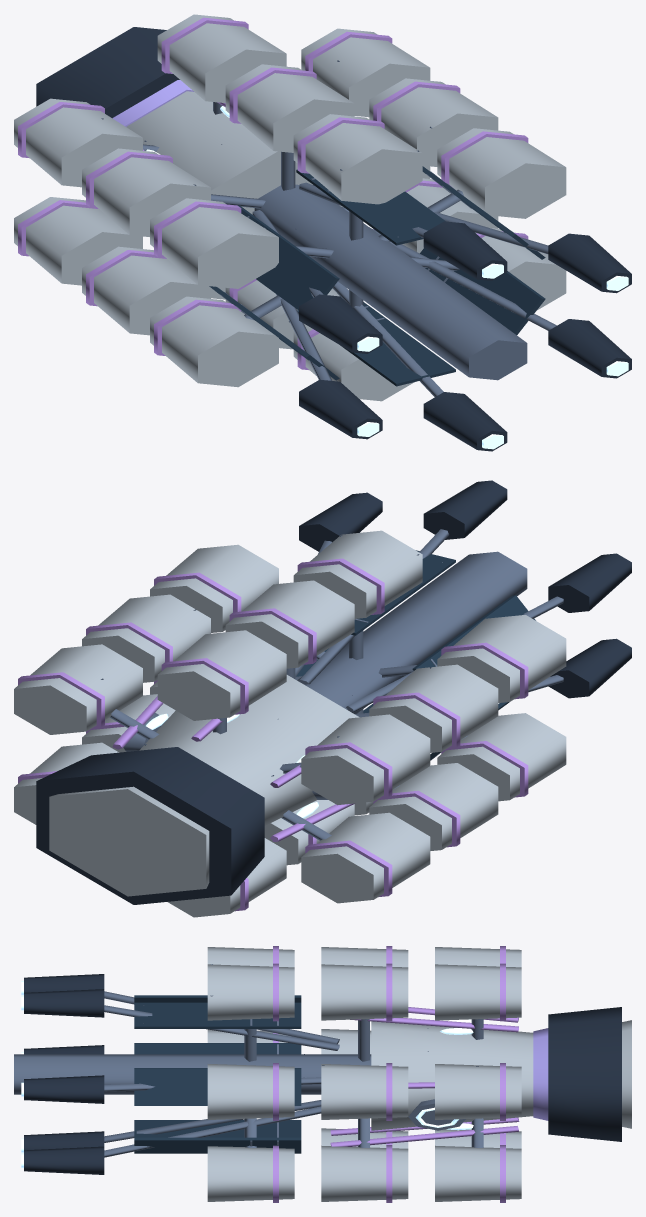
Rendered from cryogenic_hydrocarbon--resource_outpost_ship--lod1.glb.
The picture shows the model from 3 angles, top to bottom: view 1: azimuth 30°, elevation 25°; view 2: azimuth 150°, elevation 25°; view 3: azimuth 270°, elevation 25°; orthographic projection. The views are drawn at different scales.
Visible parts, largest first — view 1: thermal_isolation_spine_1, cold_habitat_lantern_2, insulated_habitat_lantern_93, insulated_habitat_lantern_108, insulated_habitat_lantern_96, insulated_habitat_lantern_105, outpost_seed_capsule_111, insulated_habitat_lantern_75, insulated_habitat_lantern_57, insulated_habitat_lantern_90, insulated_habitat_lantern_72, insulated_habitat_lantern_69 (+36 smaller); view 2: outpost_seed_capsule_111, forward_ice_cap_3, thermal_isolation_spine_1, cold_habitat_lantern_2, insulated_habitat_lantern_57, insulated_habitat_lantern_72, insulated_habitat_lantern_69, insulated_habitat_lantern_60, insulated_habitat_lantern_75, insulated_habitat_lantern_93, insulated_habitat_lantern_90, insulated_habitat_lantern_108 (+29 smaller); view 3: outpost_seed_capsule_111, cold_habitat_lantern_2, thermal_isolation_spine_1, insulated_habitat_lantern_78, insulated_habitat_lantern_75, insulated_habitat_lantern_81, insulated_habitat_lantern_96, insulated_habitat_lantern_93, insulated_habitat_lantern_99, insulated_habitat_lantern_60, insulated_habitat_lantern_63, insulated_habitat_lantern_57 (+35 smaller).
Boxes of the visible parts, bbox=[...] form: thermal_isolation_spine_1: bbox=[254, 184, 527, 380]; cold_habitat_lantern_2: bbox=[126, 91, 343, 214]; insulated_habitat_lantern_93: bbox=[293, 114, 422, 204]; insulated_habitat_lantern_108: bbox=[150, 198, 278, 288]; insulated_habitat_lantern_96: bbox=[437, 128, 566, 218]; insulated_habitat_lantern_105: bbox=[150, 296, 278, 387]; outpost_seed_capsule_111: bbox=[36, 27, 179, 118]; insulated_habitat_lantern_75: bbox=[225, 64, 354, 152]; insulated_habitat_lantern_57: bbox=[157, 14, 286, 102]; insulated_habitat_lantern_90: bbox=[82, 148, 210, 236]; insulated_habitat_lantern_72: bbox=[14, 98, 142, 187]; insulated_habitat_lantern_69: bbox=[14, 197, 142, 285]; outpost_seed_capsule_111: bbox=[36, 747, 264, 904]; forward_ice_cap_3: bbox=[49, 786, 209, 896]; thermal_isolation_spine_1: bbox=[297, 551, 527, 713]; cold_habitat_lantern_2: bbox=[139, 675, 359, 825]; insulated_habitat_lantern_57: bbox=[157, 630, 286, 720]; insulated_habitat_lantern_72: bbox=[301, 714, 430, 805]; insulated_habitat_lantern_69: bbox=[301, 812, 430, 903]; insulated_habitat_lantern_60: bbox=[14, 644, 142, 734]; insulated_habitat_lantern_75: bbox=[225, 580, 354, 668]; insulated_habitat_lantern_93: bbox=[293, 530, 422, 618]; insulated_habitat_lantern_90: bbox=[369, 664, 498, 752]; insulated_habitat_lantern_108: bbox=[437, 615, 566, 702]; outpost_seed_capsule_111: bbox=[548, 1007, 621, 1141]; cold_habitat_lantern_2: bbox=[371, 1021, 533, 1130]; thermal_isolation_spine_1: bbox=[14, 1054, 371, 1094]; insulated_habitat_lantern_78: bbox=[321, 1064, 408, 1119]; insulated_habitat_lantern_75: bbox=[321, 964, 408, 1020]; insulated_habitat_lantern_81: bbox=[321, 1145, 408, 1201]; insulated_habitat_lantern_96: bbox=[207, 1064, 294, 1119]; insulated_habitat_lantern_93: bbox=[207, 964, 294, 1020]; insulated_habitat_lantern_99: bbox=[207, 1146, 294, 1201]; insulated_habitat_lantern_60: bbox=[435, 1064, 521, 1119]; insulated_habitat_lantern_63: bbox=[435, 1145, 521, 1201]; insulated_habitat_lantern_57: bbox=[435, 964, 521, 1020].
Size of the model in its own units: 2600 by 1700 by 4500.
